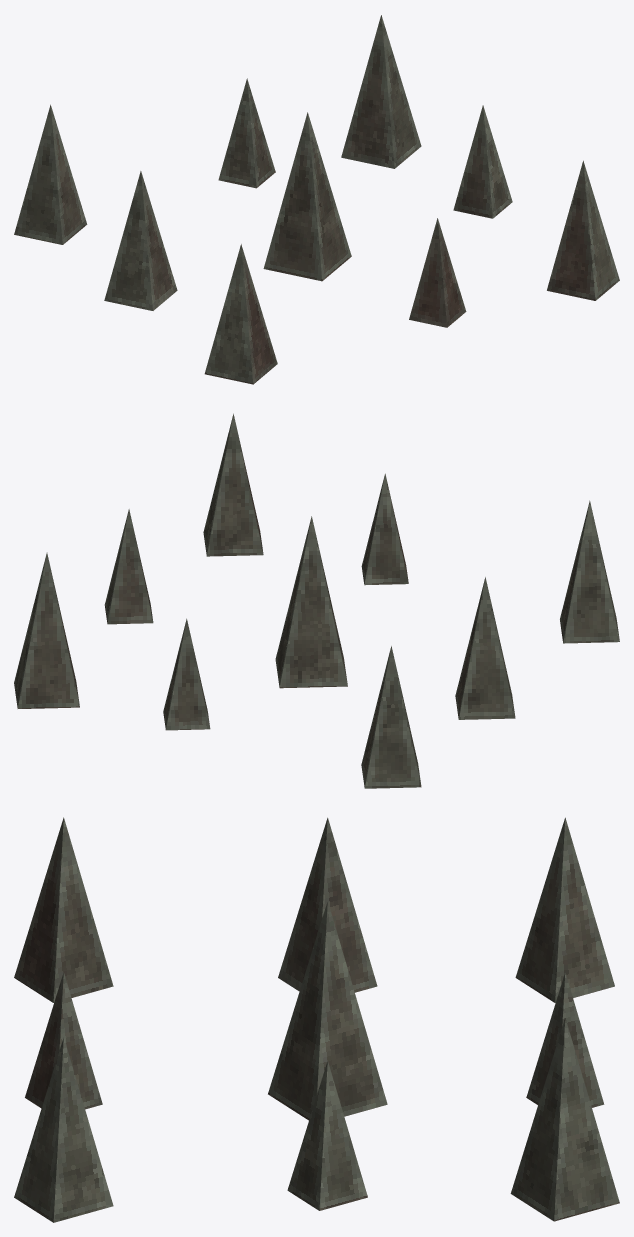
The model's file is spikes-variant1.glb.
3 renders of one model, top to bottom at view 1: azimuth 30°, elevation 25°; view 2: azimuth 150°, elevation 25°; view 3: azimuth 270°, elevation 25°, orthographic. The views are drawn at different scales.
Visible parts, largest first — view 1: Spikes_Variant1; view 2: Spikes_Variant1; view 3: Spikes_Variant1.
Boxes of the visible parts, x1,y1,x2,y2 form: Spikes_Variant1: (14,15,619,384); Spikes_Variant1: (14,413,619,788); Spikes_Variant1: (14,817,619,1222).
Size of the model in its own units: 2.76 by 0.9753 by 2.7.
1 material, 1 textured.
